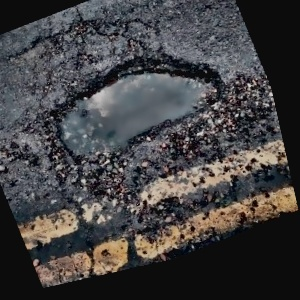pothole: (20, 24, 246, 189)
